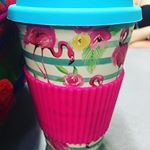cups: (4, 3, 147, 150)
